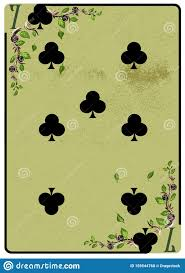seven of clubs: (3, 2, 181, 253)
